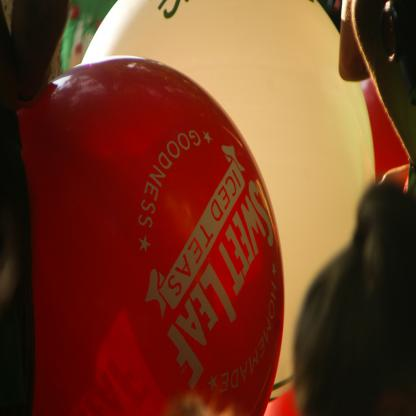Ball: (81, 0, 376, 405), (17, 57, 283, 416)
